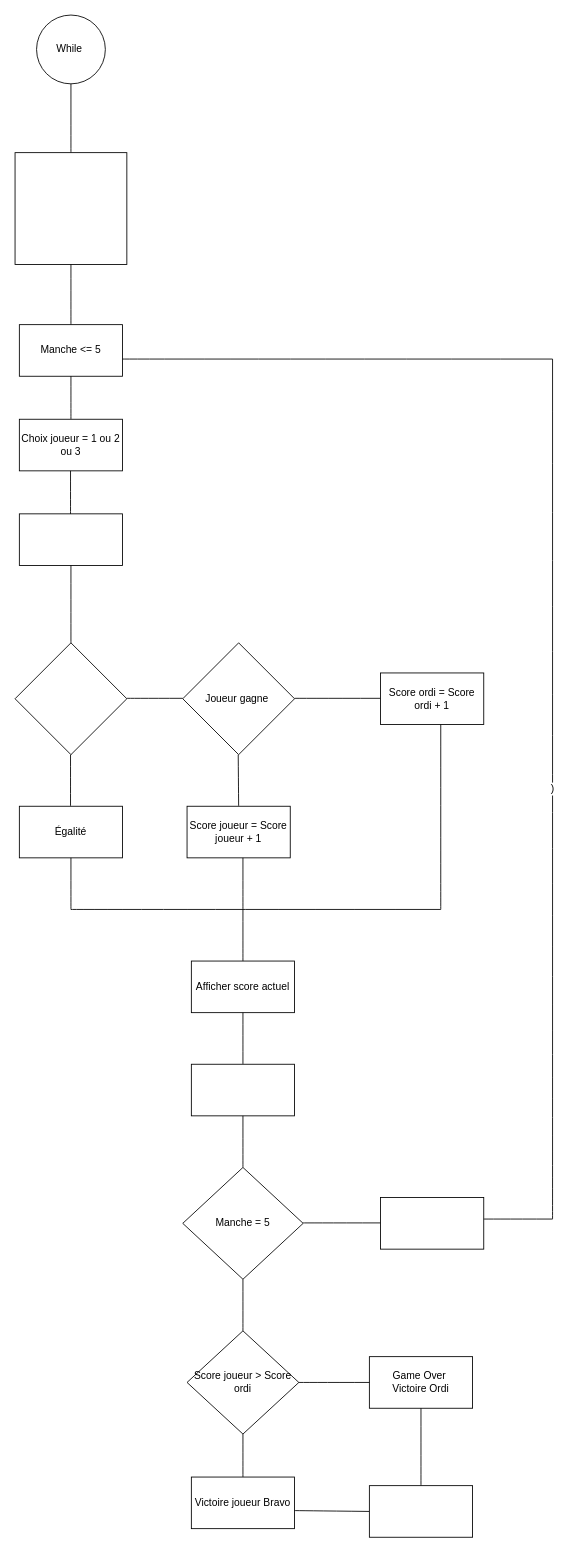
The diagram is 569 pixels wide and 1552 high, and some of its shapes have lost their labels. The shapes that lost their labels are listed below. From the top down, each one's centre as x and y in pixels, then its label:
At (x=70, y=208): "Score joueur = 0 Score ordi = 0 Manche = 1".
At (x=70, y=539): "Choix ordi = 1 ou 2 ou 3".
At (x=70, y=698): "Choix Ordi = Choix joueur".
At (x=242, y=1089): "Manche = Manche + 1".
At (x=432, y=1223): "Manche suivante".
At (x=421, y=1511): "FIN".
